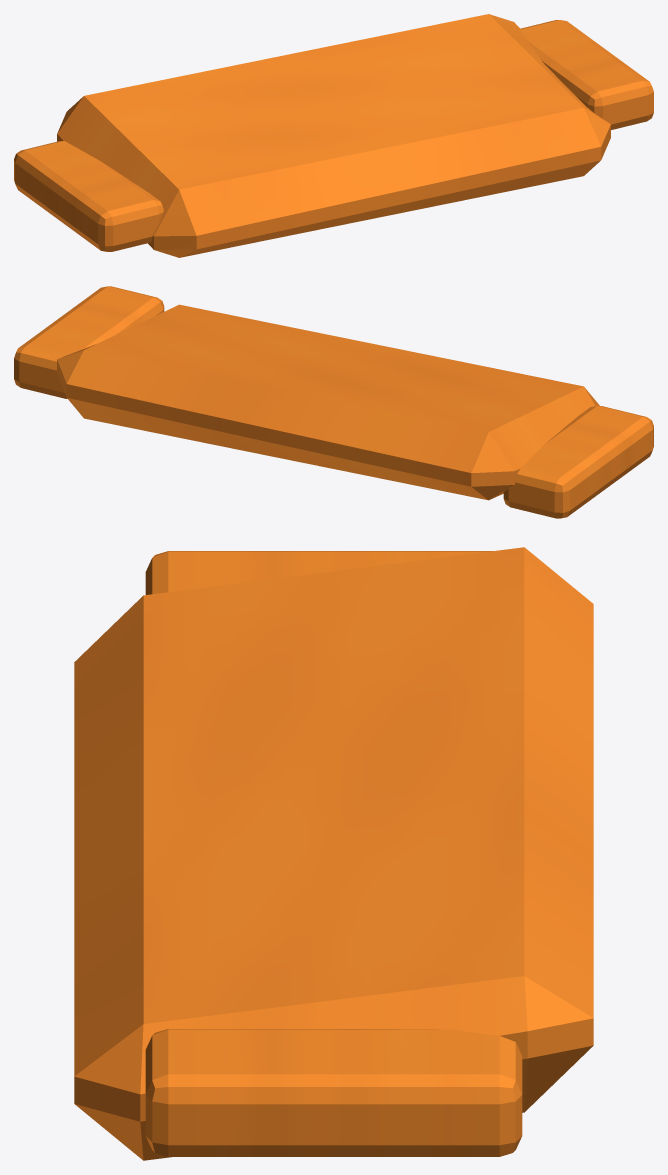
The model's file is T_wrapper.glb.
3 renders of one model, top to bottom at view 1: azimuth 30°, elevation 25°; view 2: azimuth 150°, elevation 25°; view 3: azimuth 270°, elevation 25°, orthographic. The views are drawn at different scales.
Parts seen in each view (by area): view 1: Wrapper; view 2: Wrapper; view 3: Wrapper.
Boxes of the visible parts, <box> form: Wrapper: <box>14,14,653,257</box>; Wrapper: <box>14,286,653,518</box>; Wrapper: <box>74,547,593,1160</box>.
Bounding box in the file's own units: 0.17 × 0.032 × 0.0689.
Materials: 1 (1 with a texture image).
